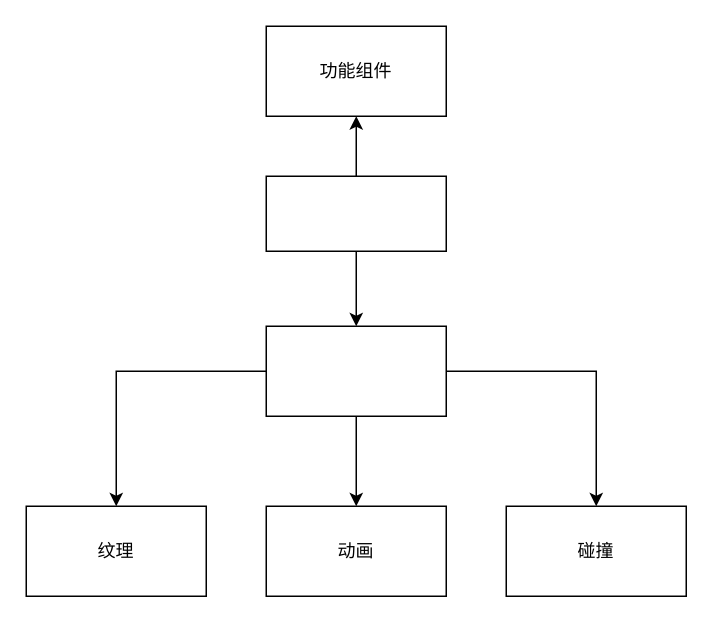
The diagram is 713 pixels wide and 623 high, and some of its shapes have lost their labels. The centre of each missing label's shape, as x and y in pixels:
"玩家角色" belongs at point 355,213.
"表现节点" belongs at point 355,370.
